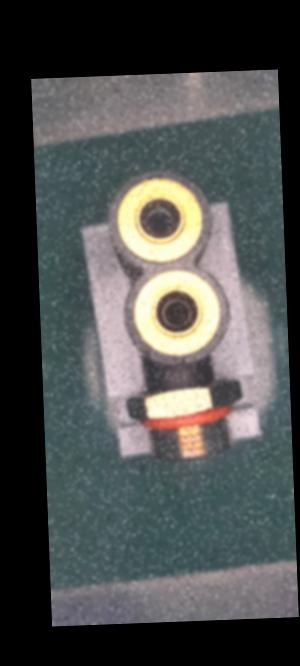bump: (170, 353, 192, 368), (138, 348, 154, 363)
white mark: (179, 377, 189, 389)
